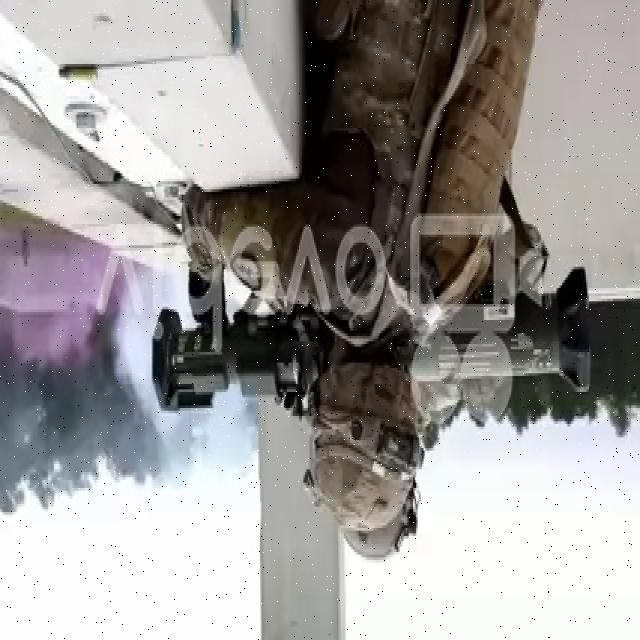bazooka: (149, 262, 597, 417)
